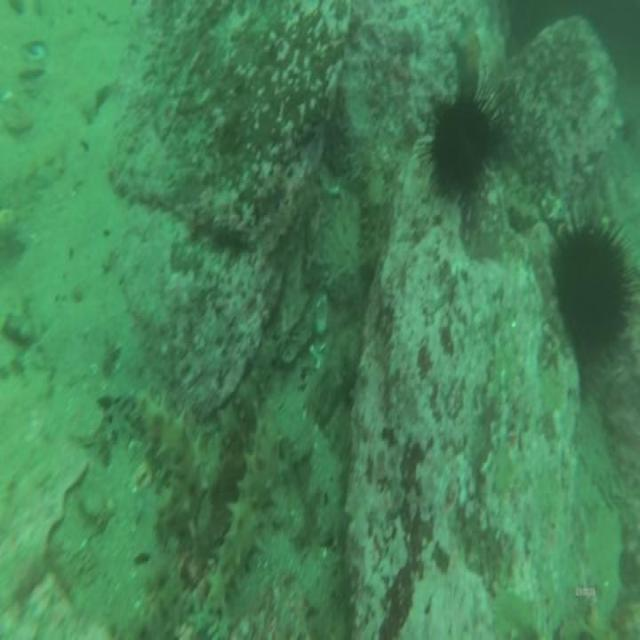echinus: (558, 223, 628, 352), (432, 98, 490, 194)
holothurian: (212, 424, 278, 594), (134, 395, 204, 533), (354, 148, 391, 272)
starfish: (452, 19, 480, 79)
